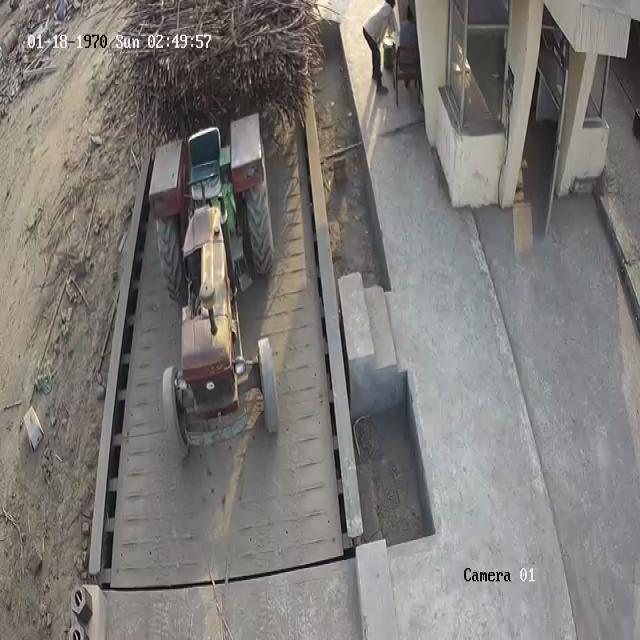Tratores - v5 YOLO V8L 2024-11-13: (150, 118, 280, 458)
